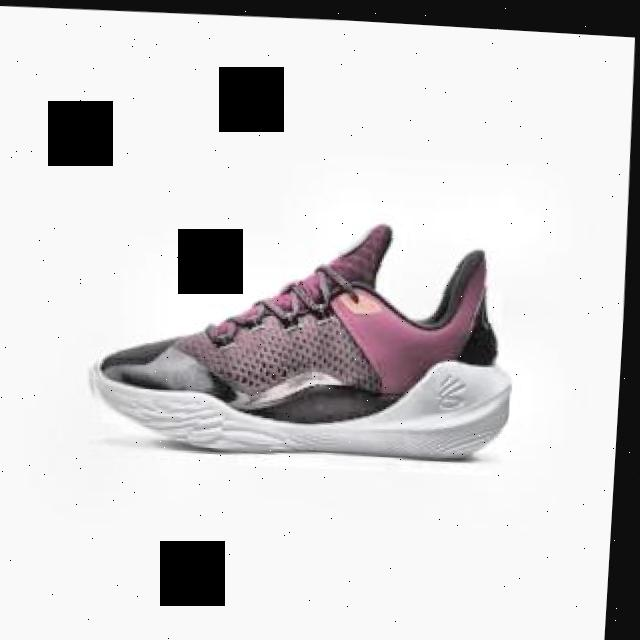shoe: (85, 202, 523, 465)
